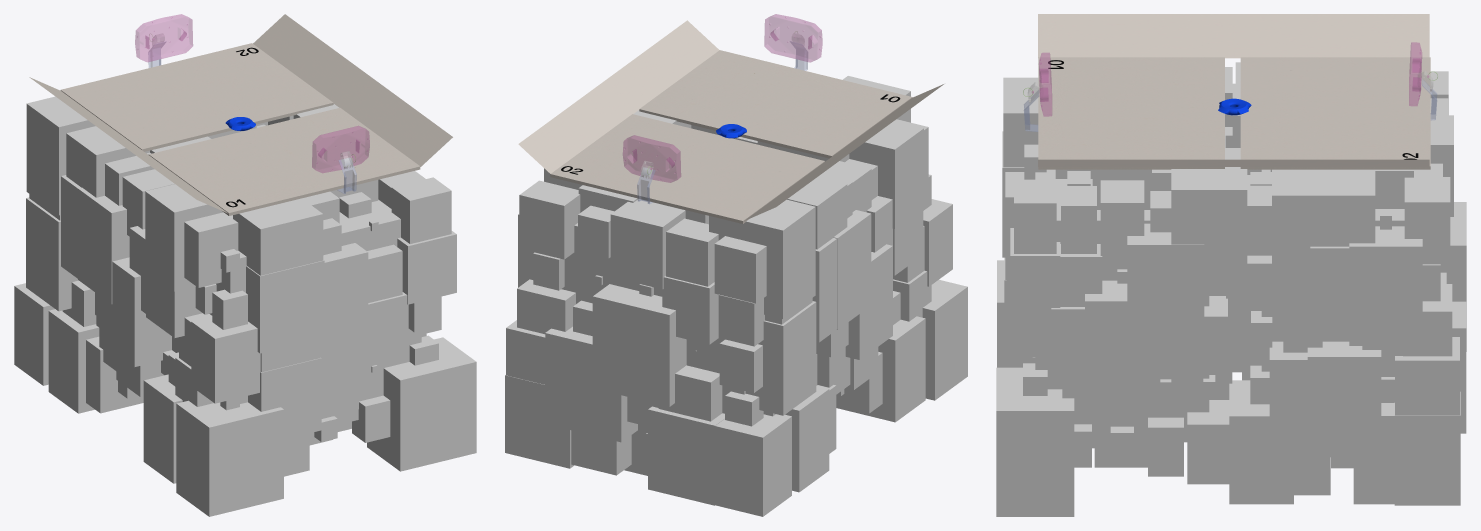
The model's file is export_pongV0.1.glb.
3 views of the same model, side by side, from view 1: azimuth 30°, elevation 25°; view 2: azimuth 150°, elevation 25°; view 3: azimuth 270°, elevation 25° (orthographic). The views are drawn at different scales.
Parts seen in each view (by area): view 1: Object, Padel_1, Padel_2; view 2: Object, Padel_2, Padel_1; view 3: Object, Padel_1, Padel_2.
Part boxes in pixels (x1,y1,x2,y2): Object: (14, 14, 476, 516); Padel_1: (312, 126, 369, 193); Padel_2: (135, 14, 192, 67); Object: (505, 20, 967, 516); Padel_2: (623, 135, 680, 203); Padel_1: (764, 14, 822, 70); Object: (996, 14, 1466, 516); Padel_1: (1023, 53, 1051, 131); Padel_2: (1409, 42, 1437, 120).
Bounding box in the file's own units: 13.79 × 16.42 × 18.01.
Materials: 5 (5 with a texture image).
